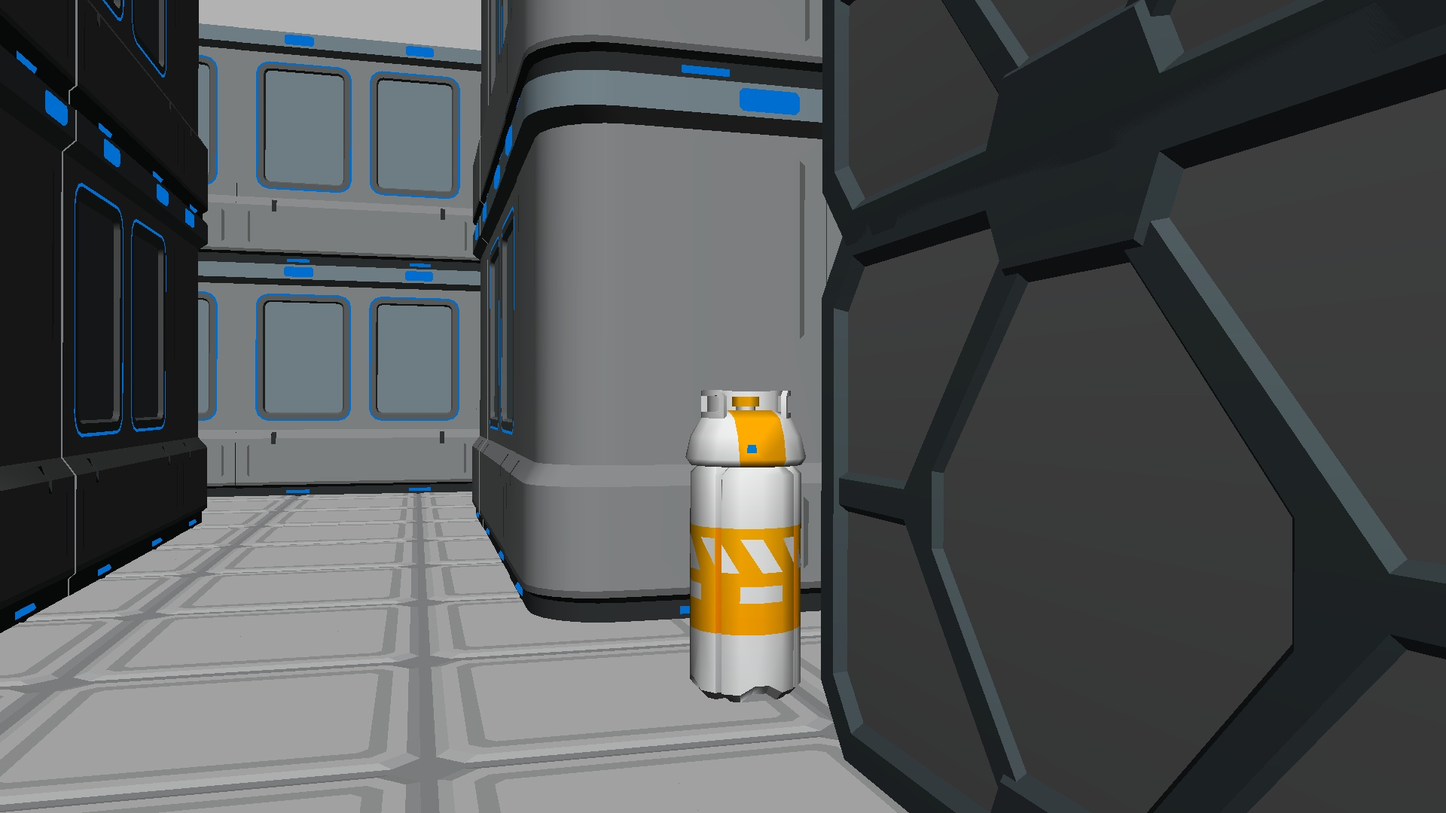yellow barrel: (687, 388, 806, 703)
